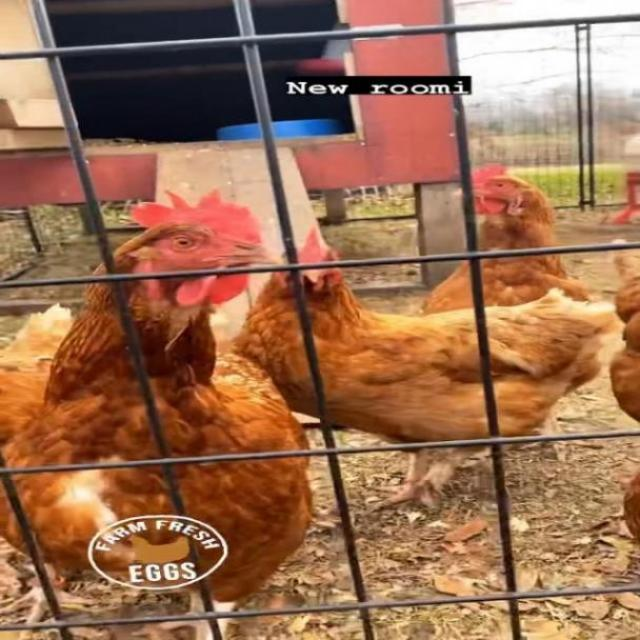Chicken: (0, 188, 317, 640), (229, 222, 612, 514), (424, 163, 600, 457), (606, 237, 640, 550)
